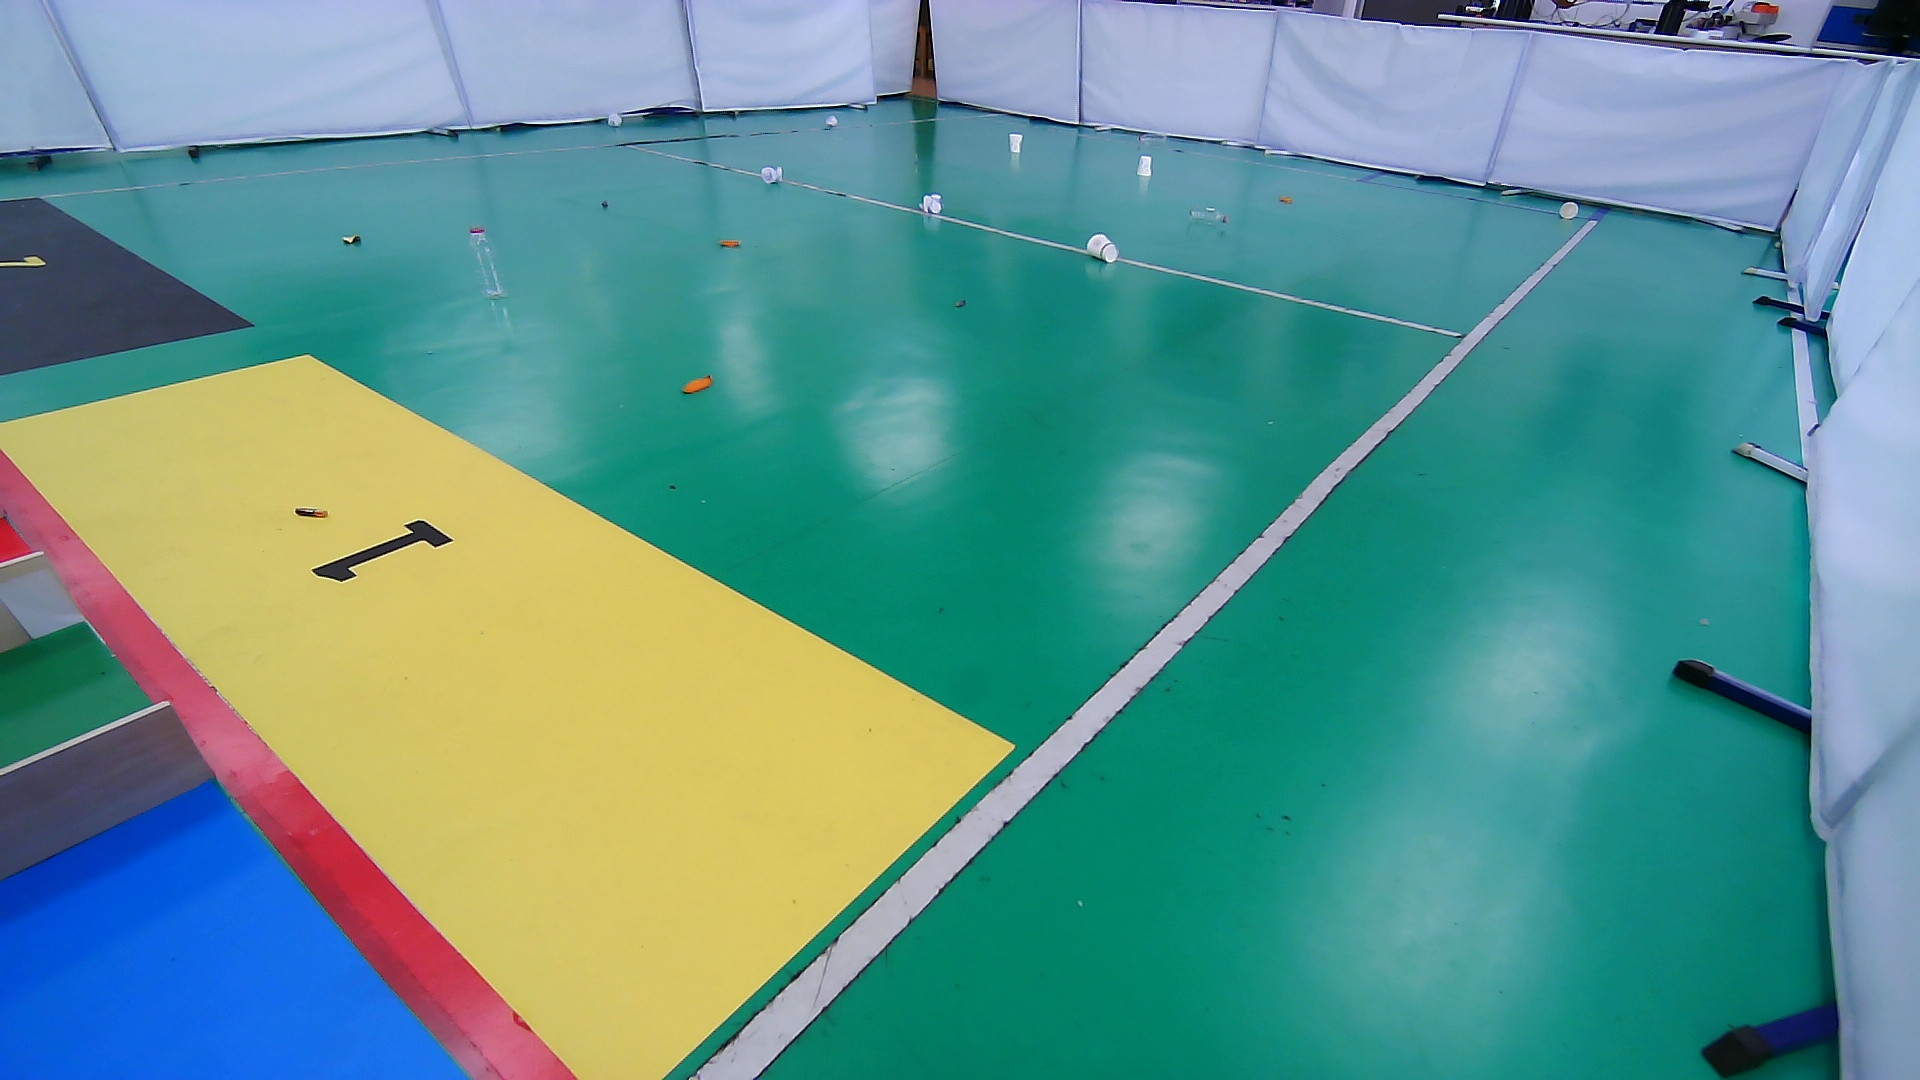battery: (293, 502, 327, 524), (593, 194, 616, 214), (949, 295, 971, 313)
bottle: (465, 222, 516, 303), (1187, 200, 1230, 229)
orangepeel: (676, 371, 717, 396), (717, 233, 745, 251), (340, 229, 365, 247), (1276, 193, 1296, 208)
papercup: (1083, 231, 1120, 266), (1133, 152, 1154, 179), (1557, 199, 1581, 220), (1006, 129, 1025, 154)
spitball: (916, 190, 944, 216), (760, 164, 785, 187), (605, 111, 625, 129), (825, 113, 840, 129)
